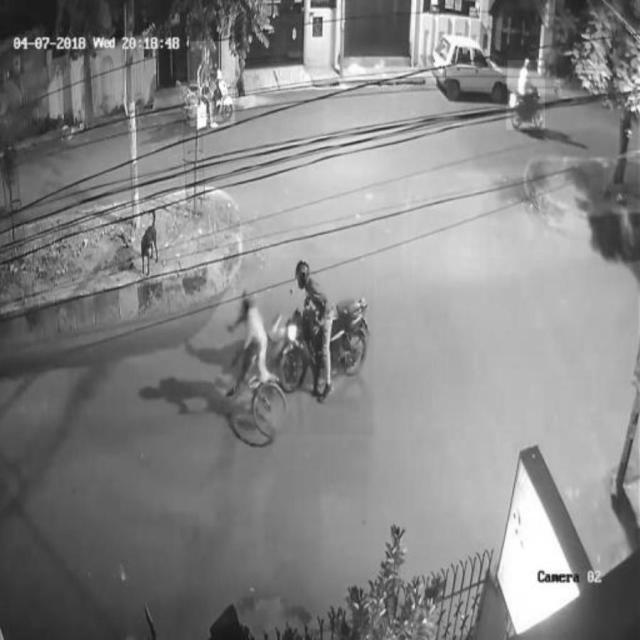accident: (237, 258, 374, 435)
vehicle: (433, 27, 507, 105), (190, 42, 235, 126), (506, 61, 544, 131)
